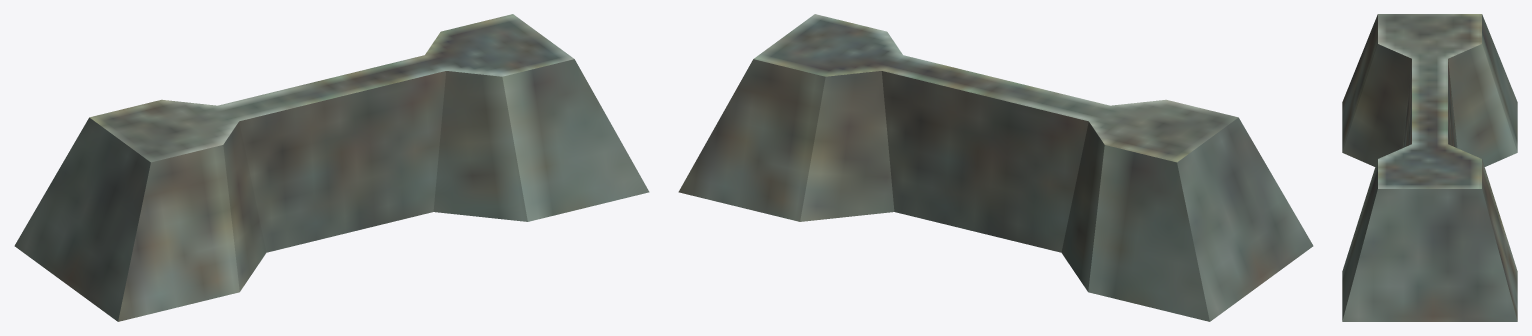
File: Girder_Base.FBX
3 views of the same model, side by side, from view 1: azimuth 30°, elevation 25°; view 2: azimuth 150°, elevation 25°; view 3: azimuth 270°, elevation 25° (orthographic). The views are drawn at different scales.
Visible parts, largest first — view 1: Girder_Base; view 2: Girder_Base; view 3: Girder_Base.
Boxes of the visible parts, box(x1,y1,x2,y2) form: Girder_Base: box(14, 14, 649, 321); Girder_Base: box(678, 14, 1313, 321); Girder_Base: box(1342, 14, 1517, 321).
Size of the model in its own units: 125 by 29.53 by 42.39.
